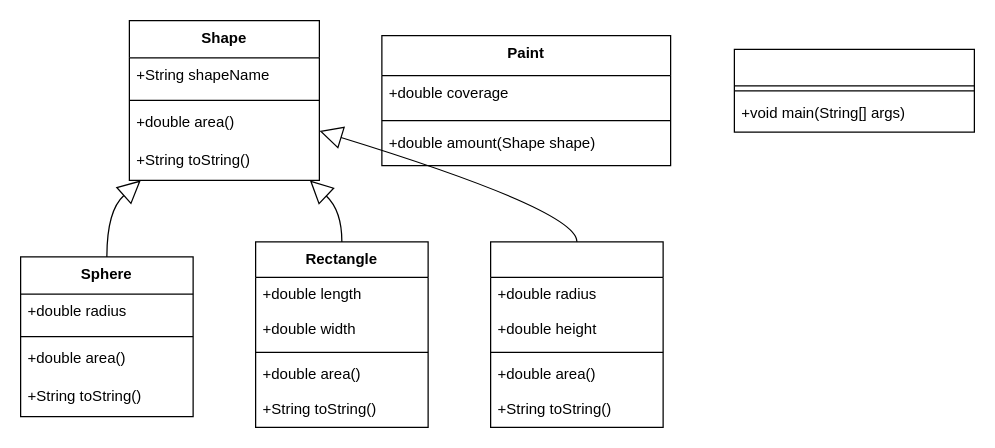
The diagram is 995 pixels wide and 448 high, and some of its shapes have lost their labels. Here are the shapes that lost their labels. From the top down, the box of each, then its label:
(733, 48, 974, 132): PaintThings
(489, 241, 663, 427): Cylinder
